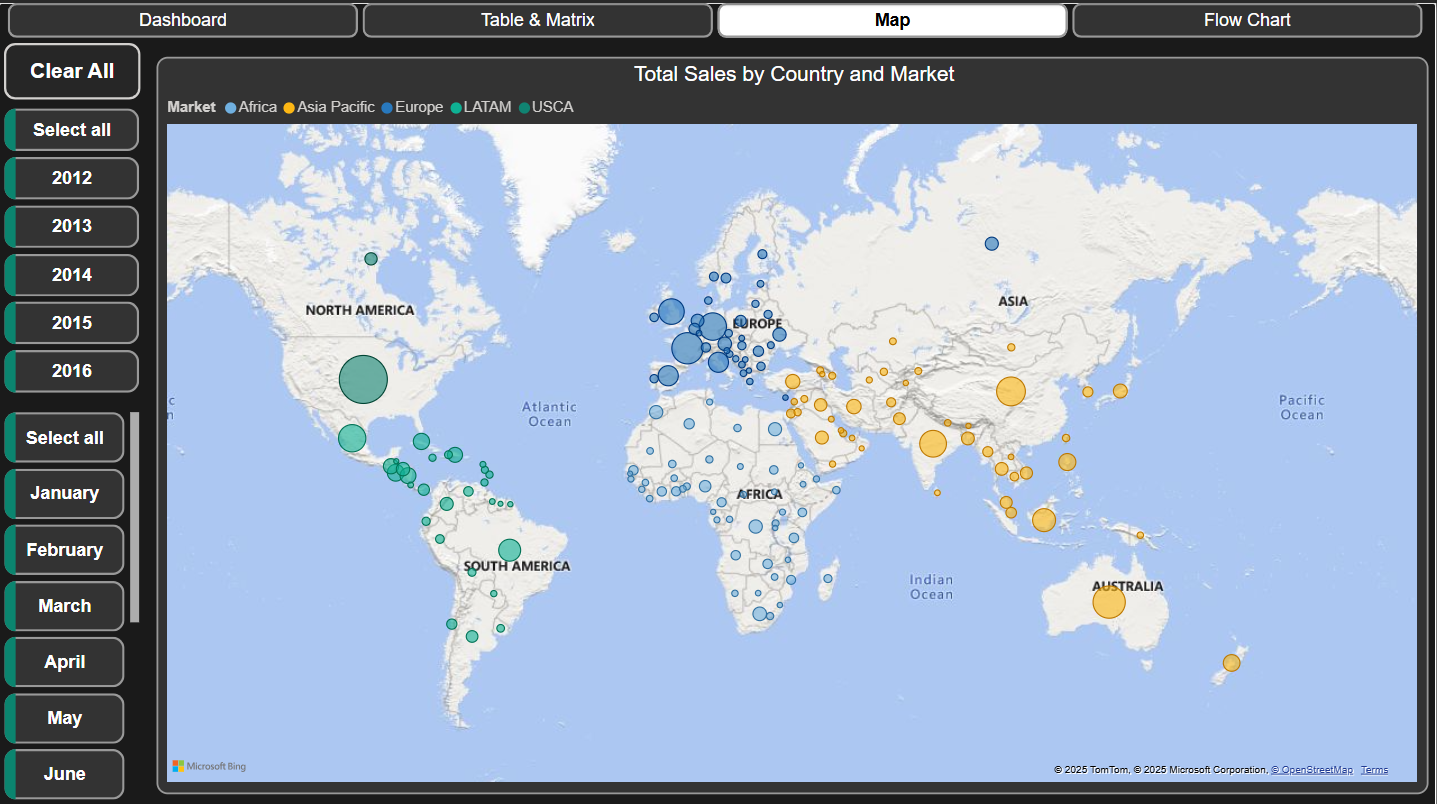

What the dashboard file says about the page in this screenshot:
{"tool":"powerbi","page":{"name":"Global Sales Overveiw","canvas":[1280,720],"ordinal":4},"visuals":[{"type":"pageNavigator","box":[8.1,0,1263.8,31.9],"z":0},{"type":"actionButton","box":[4.9,35.6,121.5,50.3],"z":1000},{"type":"advancedSlicerVisual","fields":{"Values":["Dim_Date.Year"]},"box":[0,89.6,130.1,263.8],"z":2000},{"type":"advancedSlicerVisual","fields":{"Values":["Dim_Date.Date.Variation.Date Hierarchy.Month"]},"box":[0,359.5,130.1,357.1],"z":3000},{"type":"map","fields":{"Category":["Dim_Customers.Region","Dim_Customers.Country","Dim_Customers.State","Dim_Customers.City"],"Series":["Dim_Customers.Market"],"Size":["_Measures.Total Sales"]},"box":[139.9,47.9,1132.5,656.4],"z":4000}]}

Visuals, with their boxes in screenshot pixels (x1, y1, x2, y2), scaled from the page's 1280x720 canvas onto the 1437x804 screenshot:
pageNavigator: <bbox>9, 0, 1428, 36</bbox>
actionButton: <bbox>6, 40, 142, 96</bbox>
advancedSlicerVisual - Dim_Date.Year: <bbox>0, 100, 146, 395</bbox>
advancedSlicerVisual - Dim_Date.Date.Variation.Date Hierarchy.Month: <bbox>0, 401, 146, 800</bbox>
map - Dim_Customers.Region x Dim_Customers.Country: <bbox>157, 53, 1428, 786</bbox>
